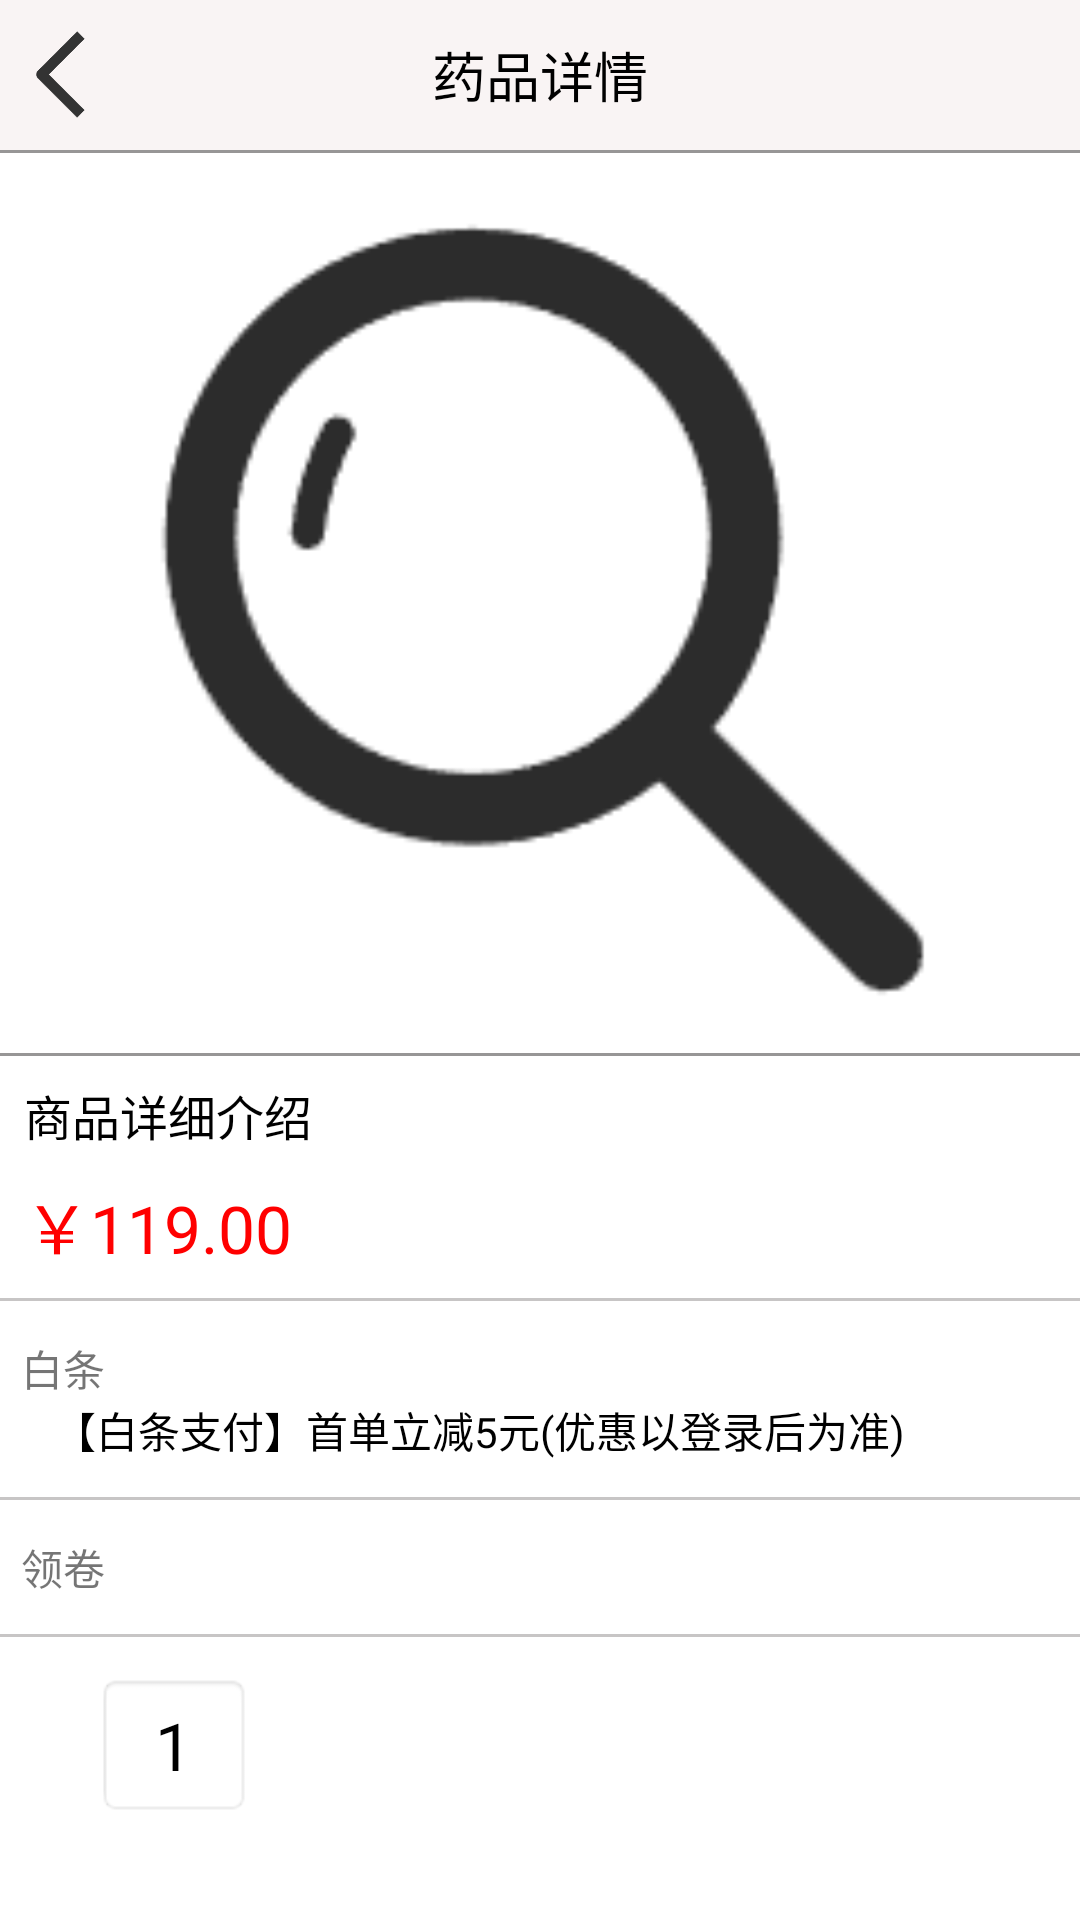

Screen size 1080x1920. Icon name, then its center in pixels as (x,y):
return: (60,74)
